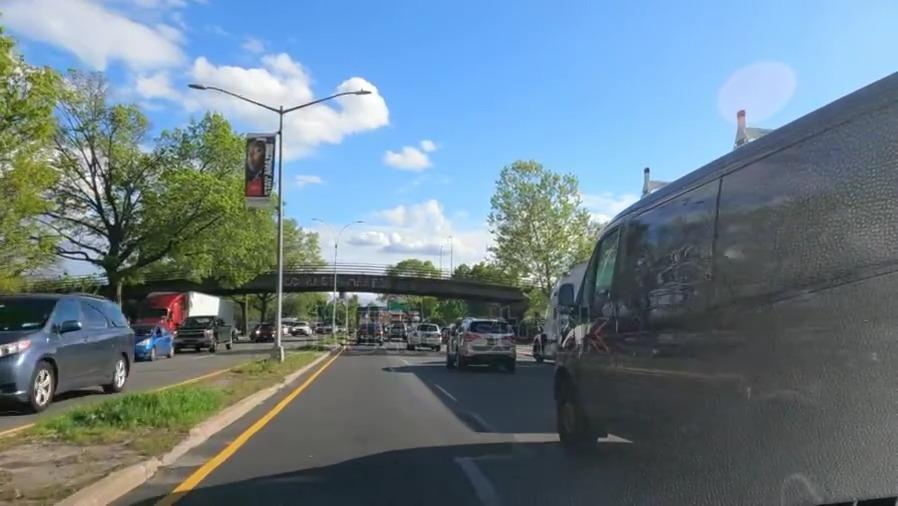car: (2, 283, 128, 398), (452, 317, 517, 368), (179, 317, 231, 348), (129, 327, 171, 359), (409, 323, 443, 351), (356, 323, 385, 345), (253, 323, 275, 339), (290, 320, 309, 335)
truck: (137, 287, 237, 331)
van: (552, 150, 898, 462)
wheel: (551, 375, 587, 446), (26, 362, 57, 406), (108, 352, 127, 391)
